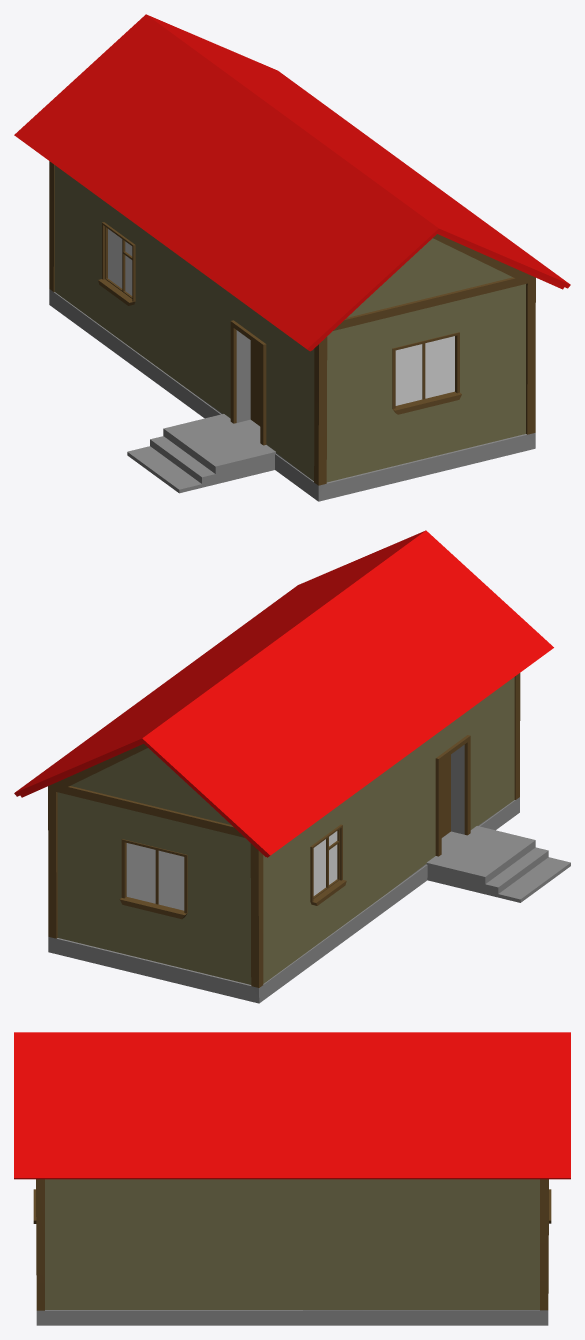
The model's file is house2.fbx.
3 views of the same model, one above another, from view 1: azimuth 30°, elevation 25°; view 2: azimuth 150°, elevation 25°; view 3: azimuth 270°, elevation 25° (orthographic). The views are drawn at different scales.
Visible parts, largest first — view 1: Cube.009, Cube.013, Cube.006, Cube.019, Cube.021; view 2: Cube.009, Cube.013, Cube.006, Cube.019, Cube.021; view 3: Cube.009, Cube.013, Cube.006, Cube.019.
Boxes of the visible parts, x1,y1,x2,y2 form: Cube.009: (14, 14, 570, 351); Cube.013: (54, 165, 525, 482); Cube.006: (49, 289, 535, 501); Cube.019: (49, 161, 535, 485); Cube.021: (108, 229, 454, 405); Cube.009: (14, 530, 553, 857); Cube.013: (57, 677, 514, 984); Cube.006: (48, 745, 570, 1003); Cube.019: (48, 673, 520, 987); Cube.021: (126, 831, 337, 910); Cube.009: (14, 1032, 570, 1179); Cube.013: (45, 1179, 539, 1309); Cube.006: (36, 1310, 548, 1325); Cube.019: (33, 1179, 551, 1310).
Bounding box in the file's own units: 642 × 466 × 968.
